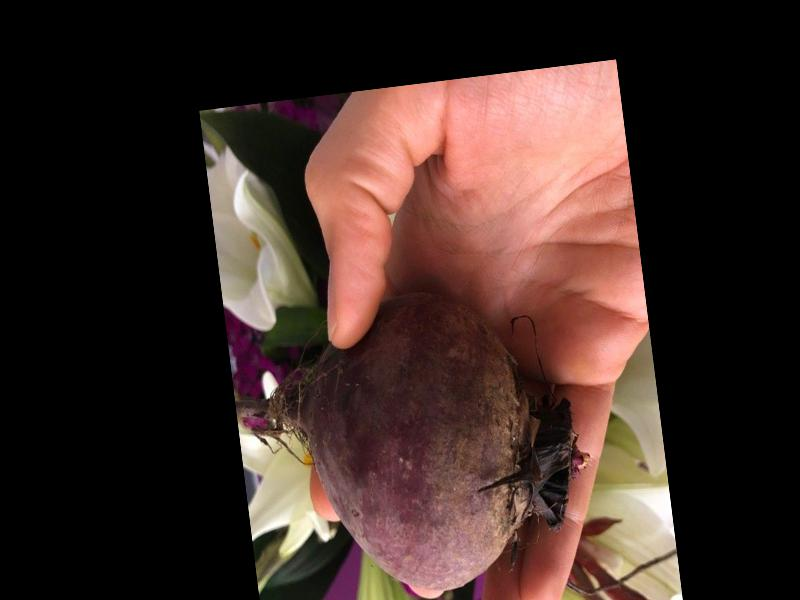Beet: (226, 274, 601, 600)
